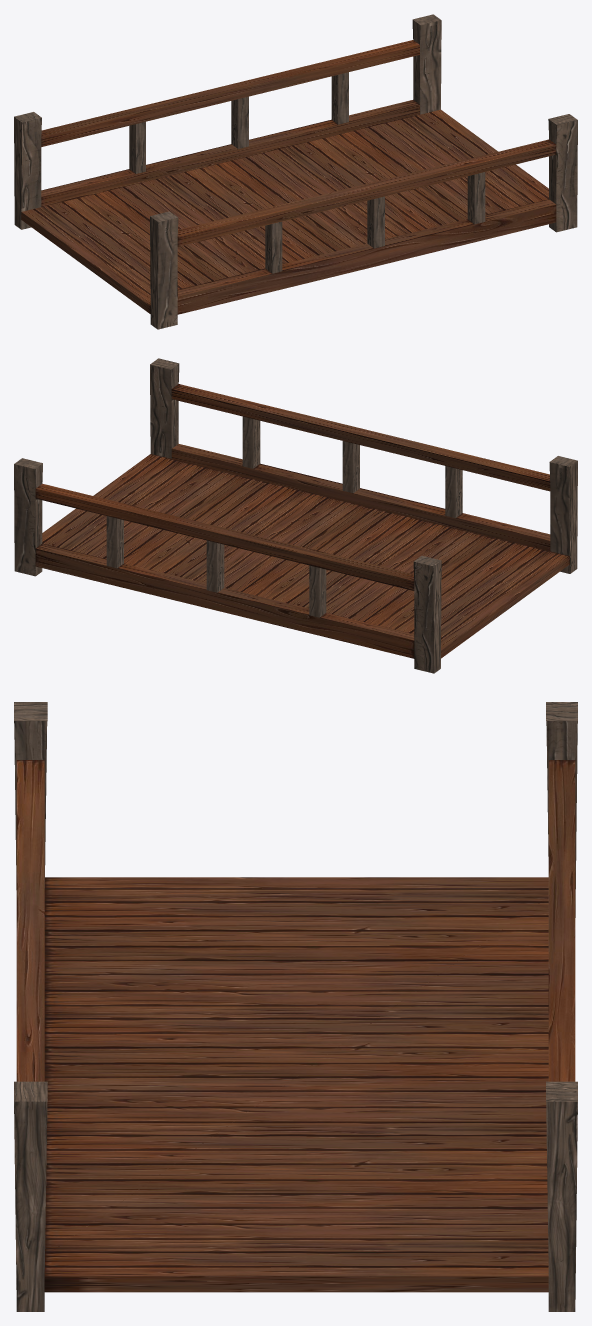
3 views of the same model, one above another, from view 1: azimuth 30°, elevation 25°; view 2: azimuth 150°, elevation 25°; view 3: azimuth 270°, elevation 25° (orthographic). The views are drawn at different scales.
Parts seen in each view (by area): view 1: Ponte_0; view 2: Ponte_0; view 3: Ponte_0.
Boxes of the visible parts, <box> form: Ponte_0: <box>14,14,577,329</box>; Ponte_0: <box>14,358,577,673</box>; Ponte_0: <box>14,702,577,1311</box>.
Size of the model in its own units: 4.4 by 1.08 by 2.63.
Materials: 4 (4 with a texture image).
